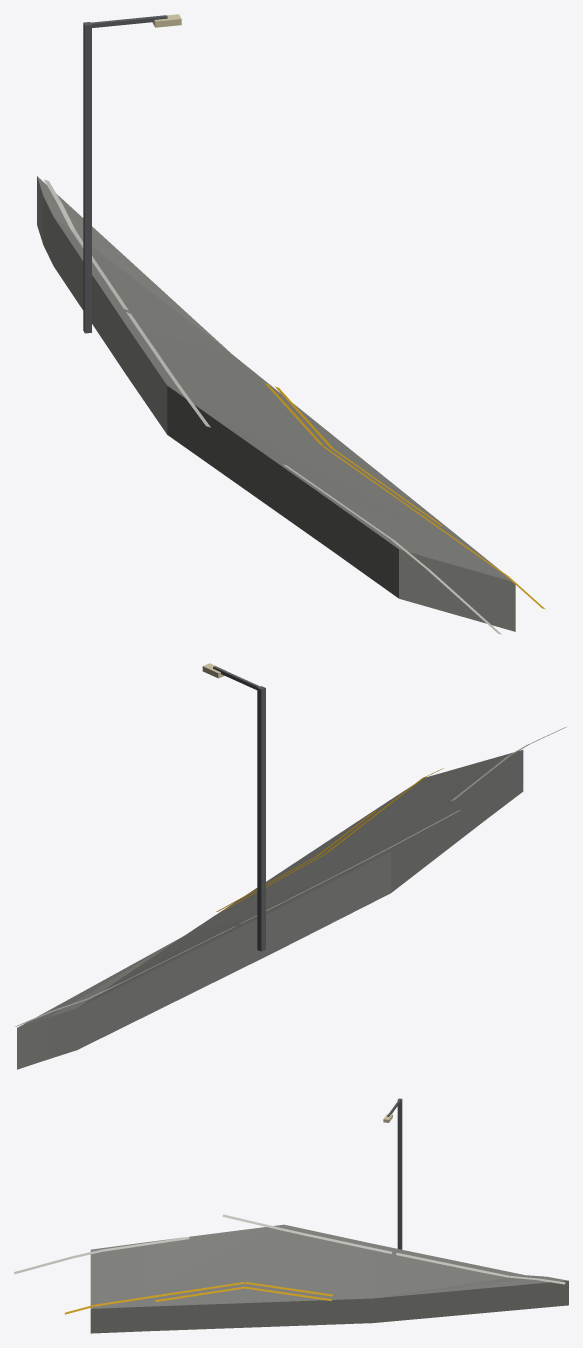
The model's file is 17-109459-59448.1adc751e.glb.
3 views of the same model, one above another, from view 1: azimuth 30°, elevation 25°; view 2: azimuth 150°, elevation 25°; view 3: azimuth 270°, elevation 25° (orthographic). The views are drawn at different scales.
Bounding box in the file's own units: 4.71 × 10 × 24.49.
